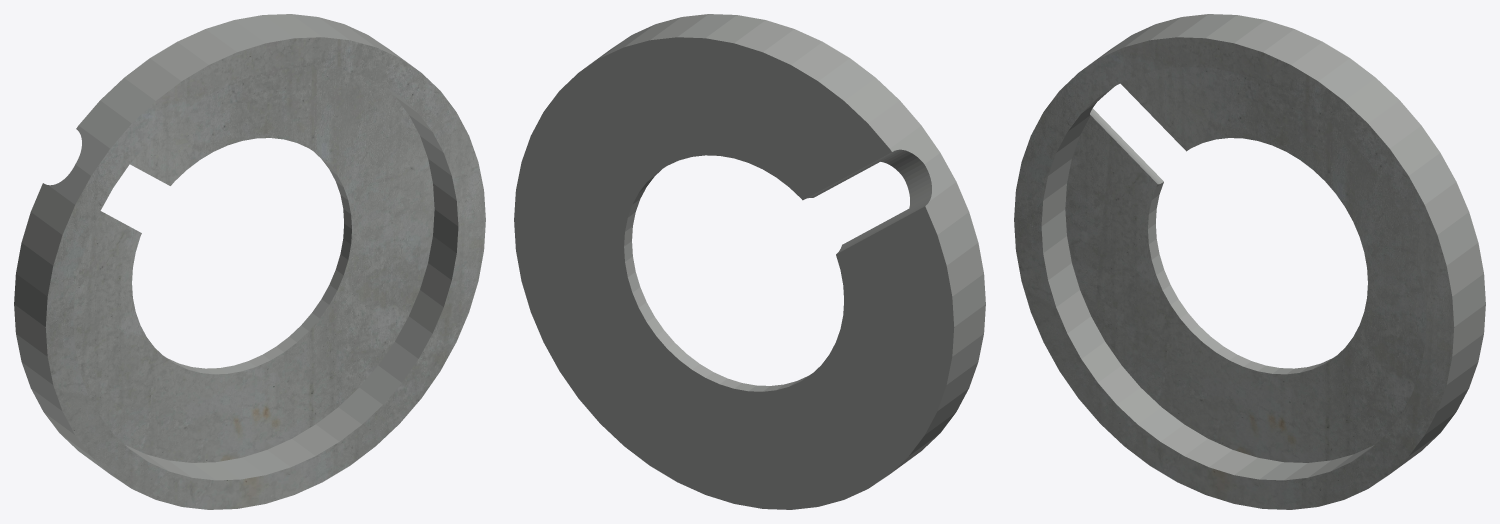
Rendered from pool_040.obj.
3 views of the same model, side by side, from view 1: azimuth 30°, elevation 25°; view 2: azimuth 150°, elevation 25°; view 3: azimuth 330°, elevation 25° (orthographic).
Size of the model in its own units: 16 by 16 by 2.
